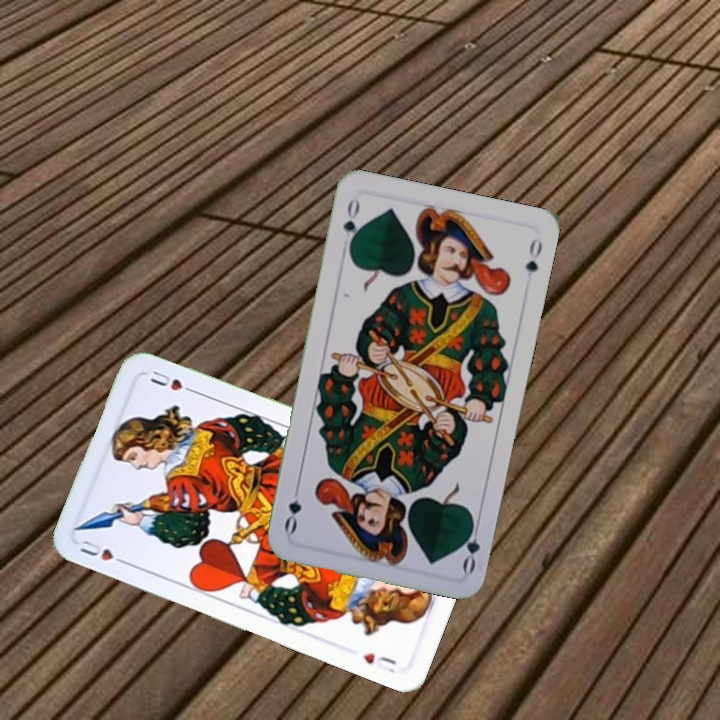GO: (457, 515, 483, 575), (338, 195, 363, 253)
HU: (76, 536, 131, 568)
